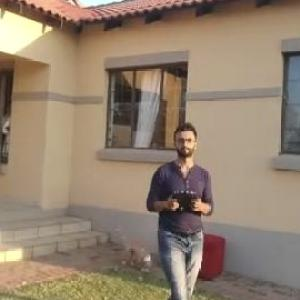follow: (141, 118, 219, 299)
null: (111, 220, 155, 273)
